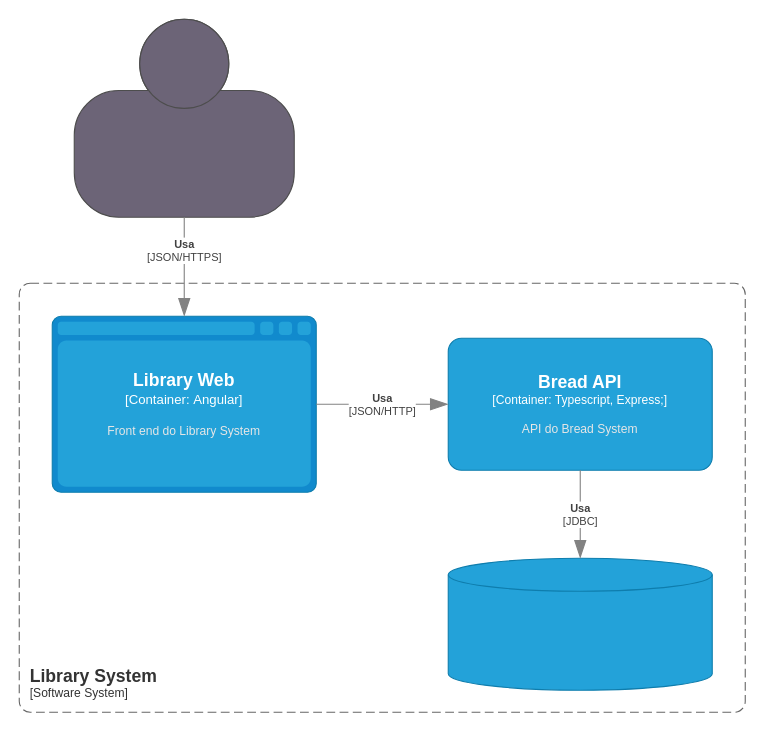
Image size: 765x732. Some labels were removed from this diagram. Each missing label, with the centre of its shape:
"Colaborador da biblioteca [Person] Colaborando na biblioteca" goes at (x=183, y=117).
"Library DataBase [Container: SQL] Banco de dados do Library System" goes at (x=579, y=623).
